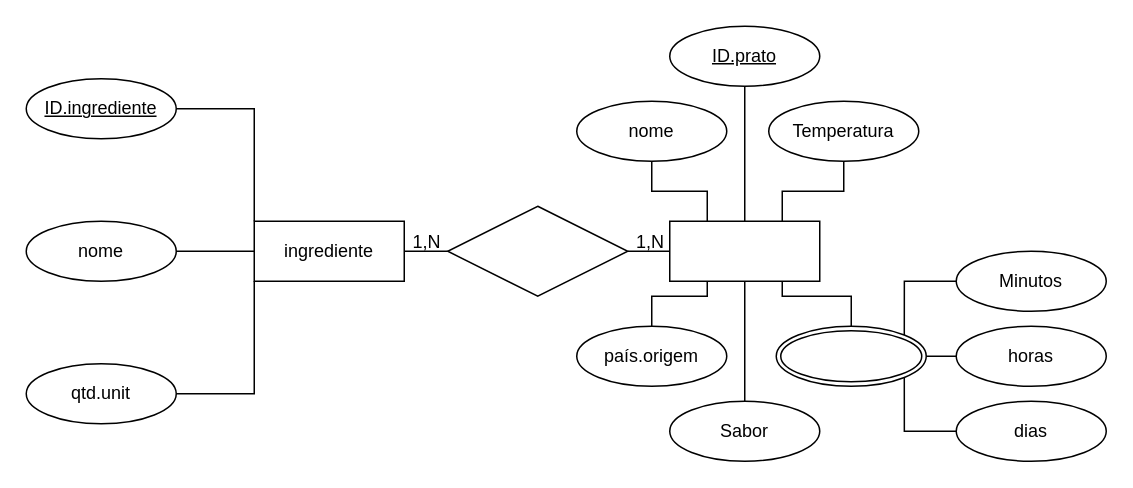
Some shapes in this 1133 by 488 pixel diagram are drawn without their labels. Here are the shapes that lost their labels. From the top down, the centre of each, then its label:
the point at 537,250: Possui
the point at 744,250: prato
the point at 850,355: tempo.preparo
